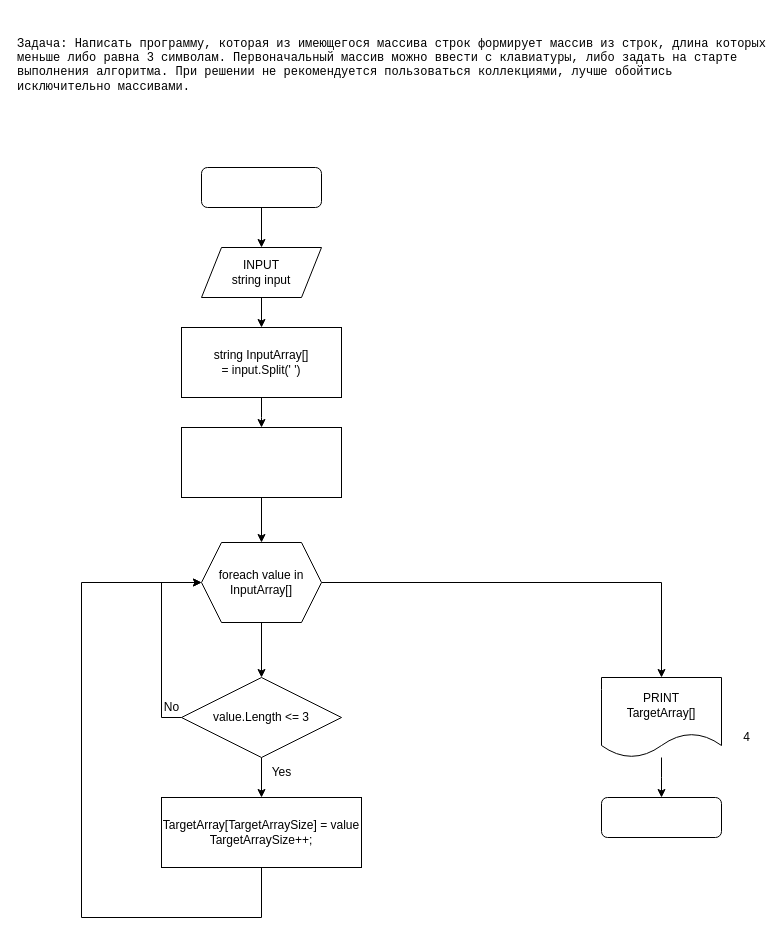
This 783x943 diagram has some shape labels left out. The shapes that lost their labels are listed below. From the top down, each one's centre as x and y in pixels, then its label:
At [261,187]: "START".
At [261,462]: "string TargetArray[InputArray.Length] TargetArraySize = 0".
At [661,817]: "END".
